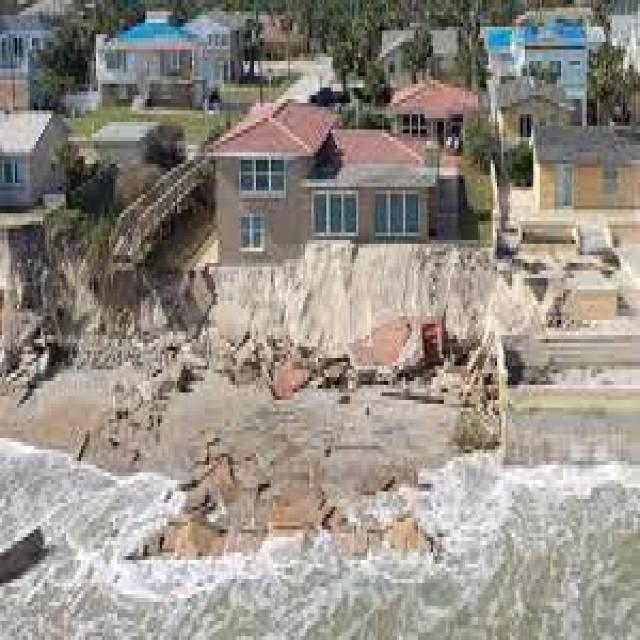Hurricane: (102, 104, 593, 590)
